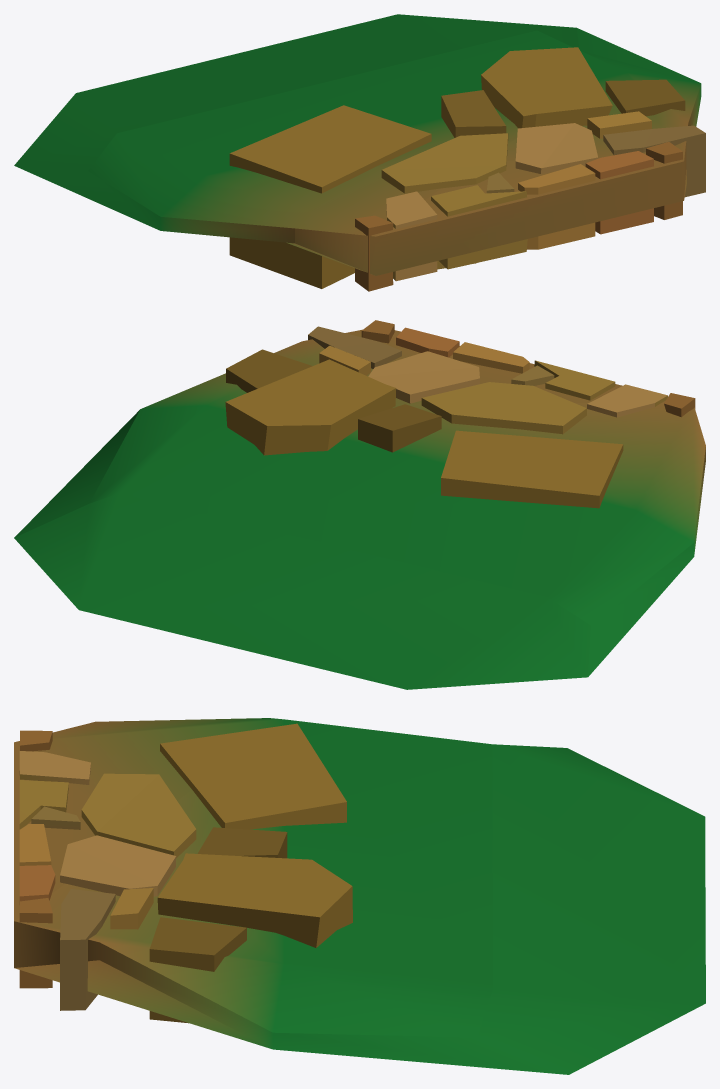
Rendered from ENV_Adventure_TileEndcap_02.fbx.
3 renders of one model, top to bottom at view 1: azimuth 30°, elevation 25°; view 2: azimuth 150°, elevation 25°; view 3: azimuth 270°, elevation 25°, orthographic. The views are drawn at different scales.
Parts seen in each view (by area): view 1: ENV_Adventure_Tile_Endcap_02; view 2: ENV_Adventure_Tile_Endcap_02; view 3: ENV_Adventure_Tile_Endcap_02.
Part boxes in pixels (bbox=[...]): ENV_Adventure_Tile_Endcap_02: bbox=[14, 14, 705, 291]; ENV_Adventure_Tile_Endcap_02: bbox=[14, 320, 705, 689]; ENV_Adventure_Tile_Endcap_02: bbox=[14, 718, 705, 1074].
Size of the model in its own units: 718 by 139 by 642.
